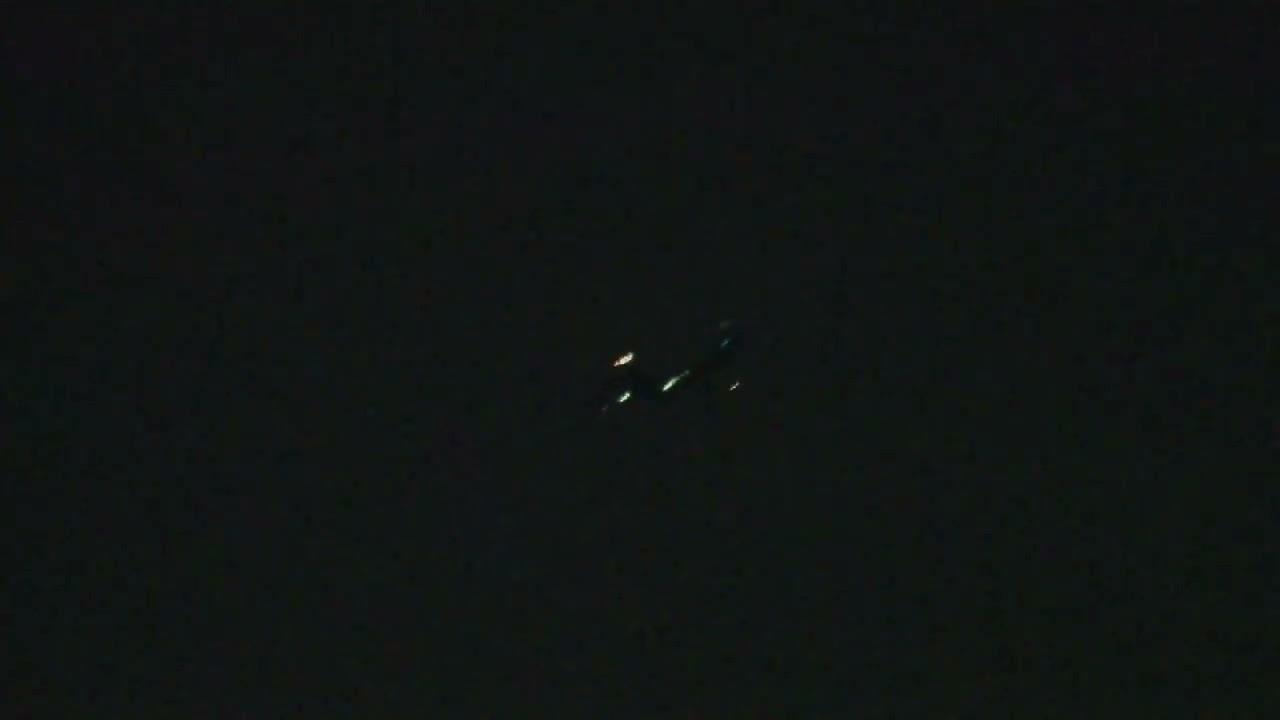Plane: (601, 307, 773, 413)
